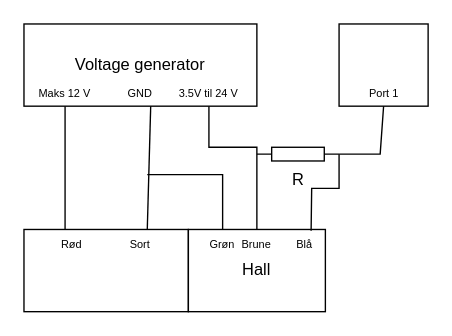
Some shapes in this 452 by 336 pixel diagram are drawn without their labels. Each missing label, with the box of its shape:
Motor: (23, 228, 188, 312)
Osciliscope: (338, 23, 428, 106)
